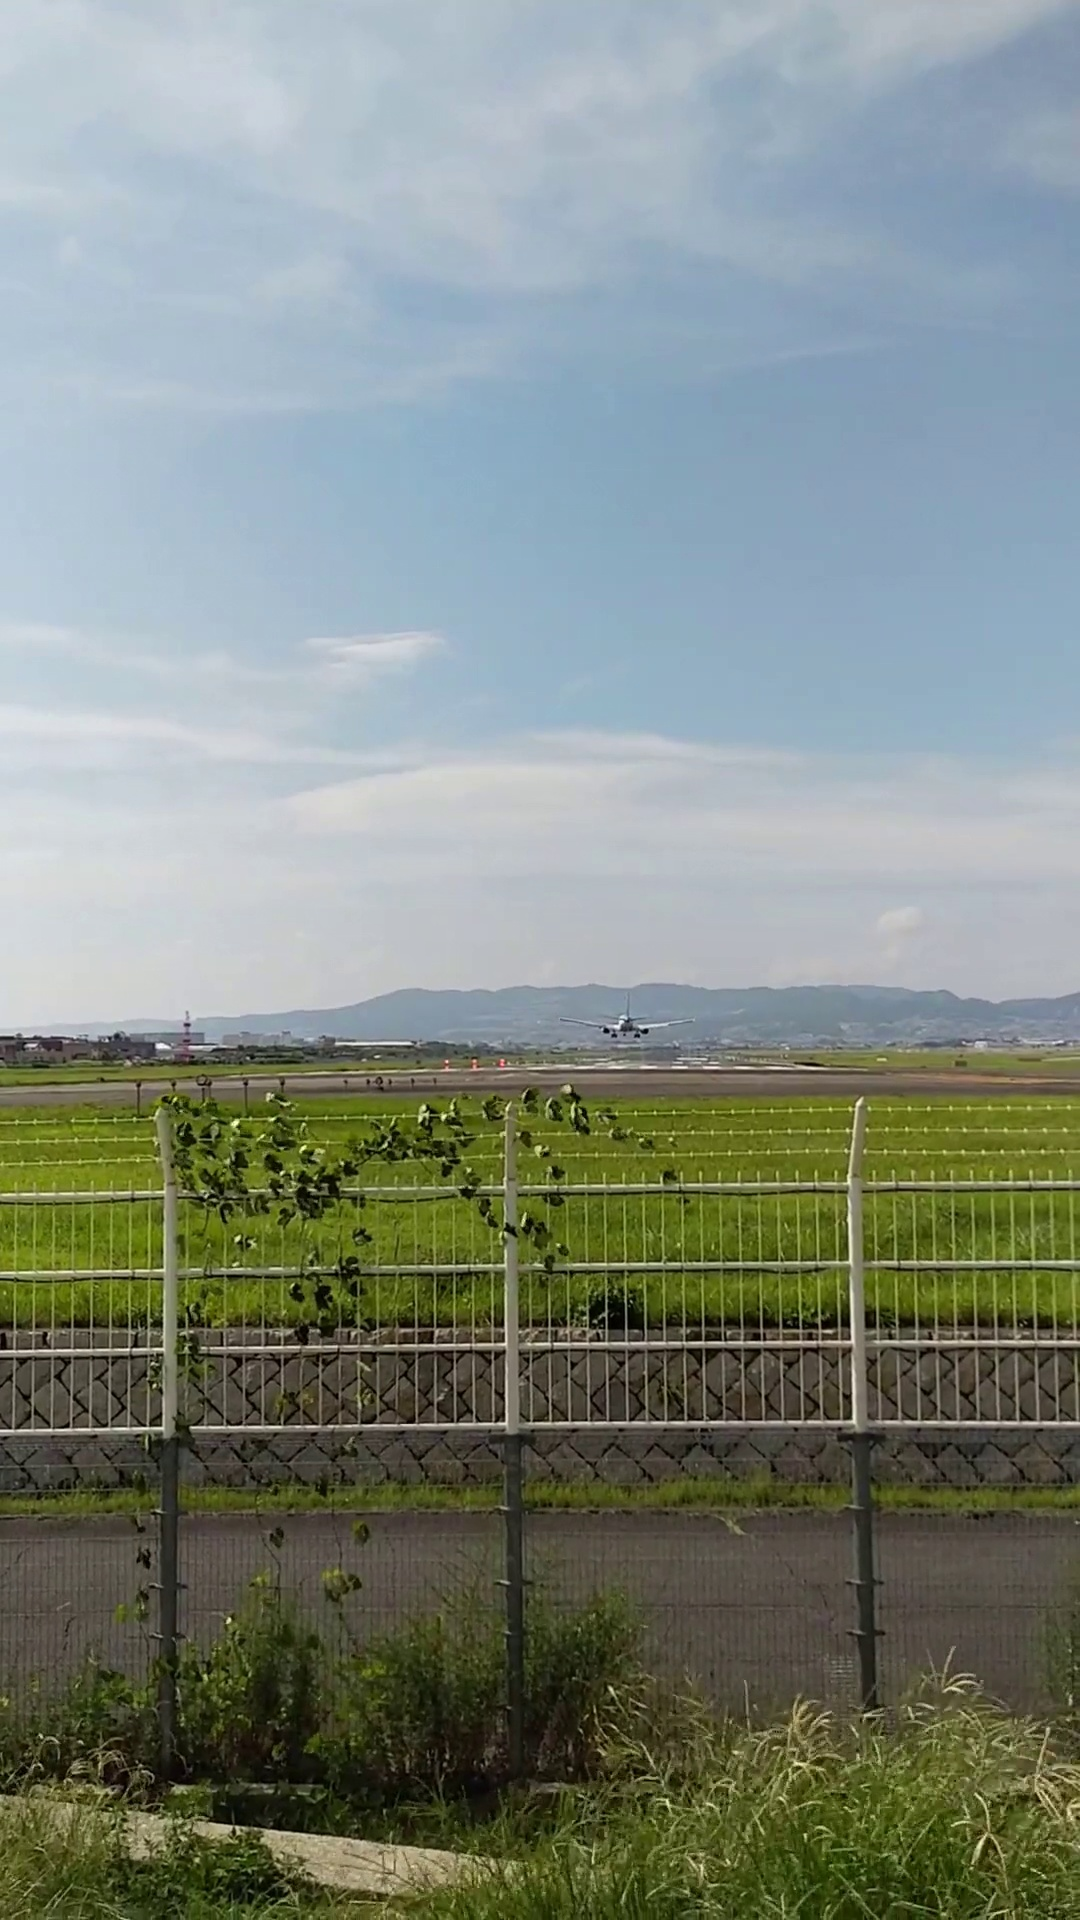plane: (559, 992, 694, 1038)
